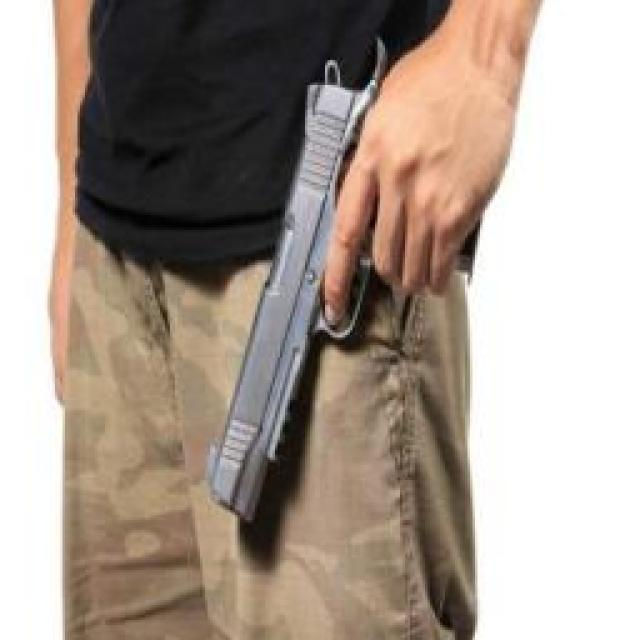pistol: (210, 20, 482, 518)
